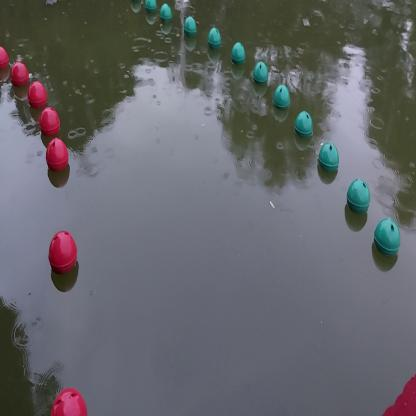green_buoy: (374, 213, 402, 268), (348, 177, 370, 224), (316, 138, 340, 181), (292, 107, 314, 146), (272, 82, 292, 116), (231, 38, 247, 70), (254, 58, 269, 92), (206, 28, 224, 53), (183, 18, 198, 42), (160, 3, 173, 28), (145, 0, 158, 20)
red_buoy: (50, 230, 78, 286), (44, 138, 72, 183), (50, 384, 89, 416), (10, 58, 32, 93), (40, 108, 61, 139), (30, 81, 48, 113), (0, 43, 9, 75)
